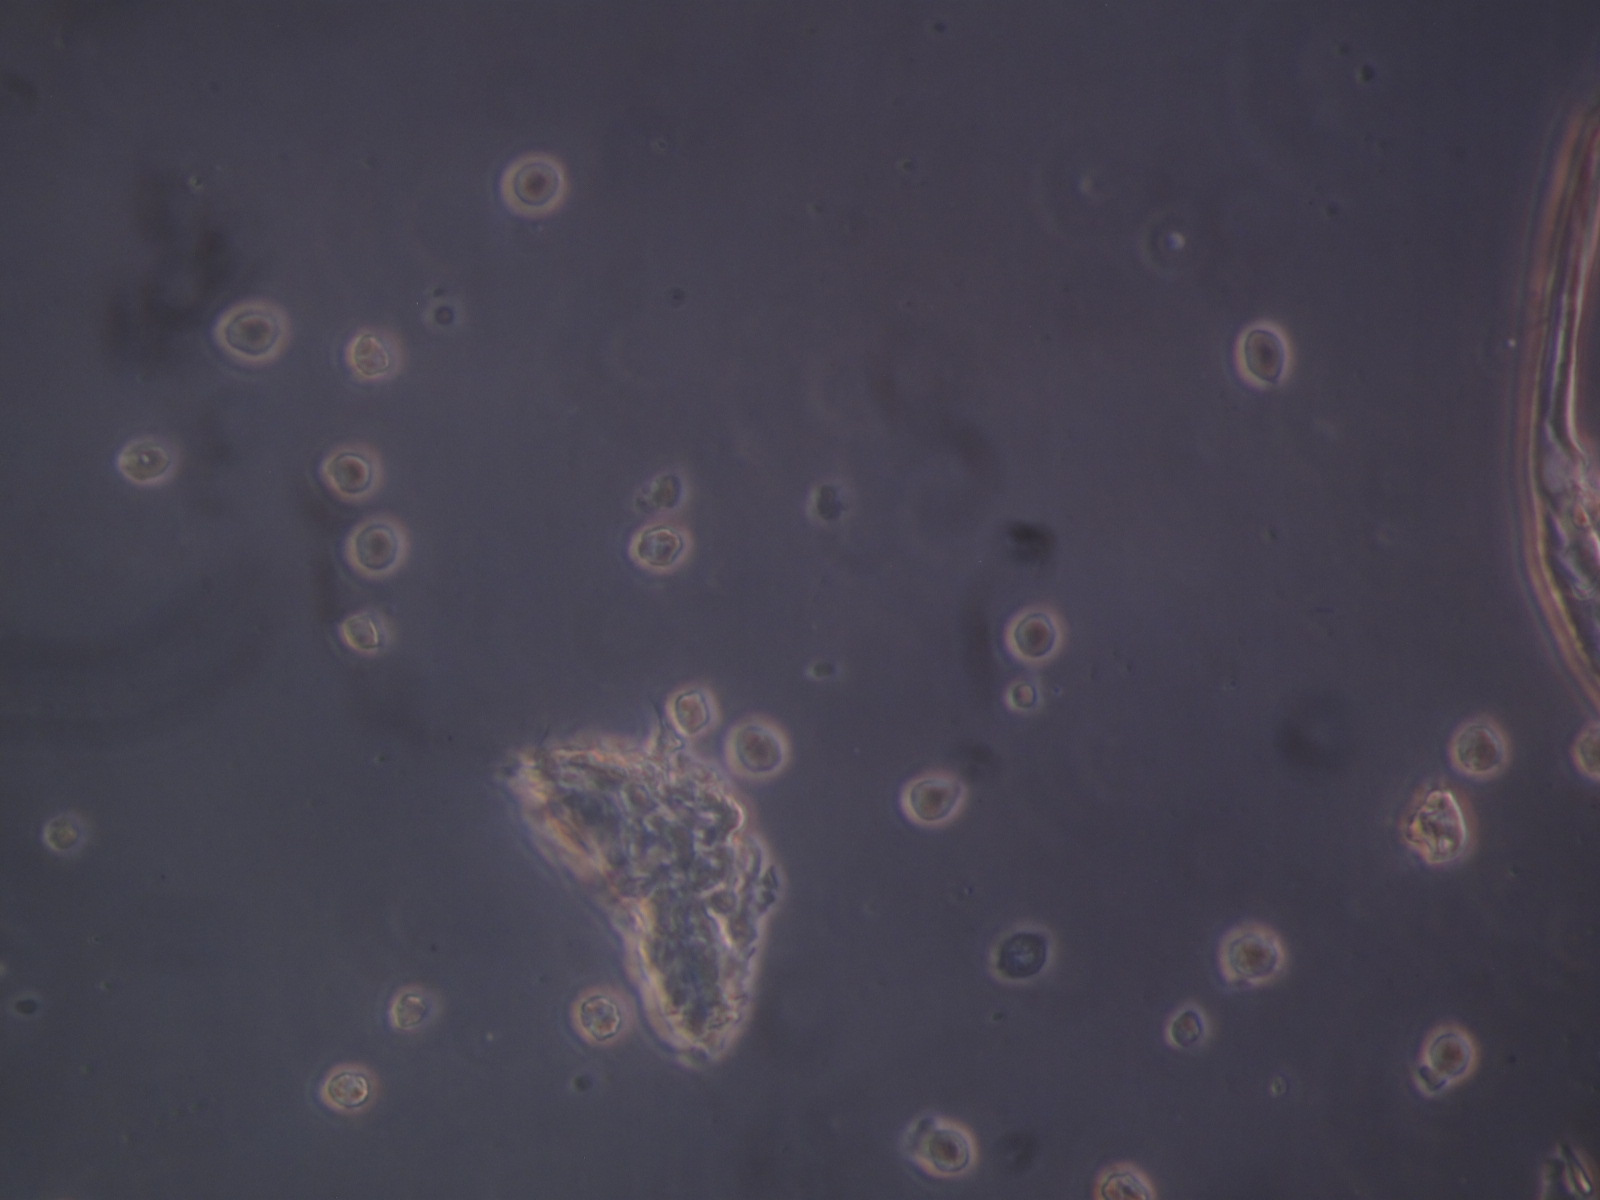hemo: (1396, 776, 1479, 863), (212, 297, 291, 371), (1448, 713, 1511, 783), (1218, 921, 1288, 984), (723, 716, 790, 780), (1233, 318, 1293, 389), (501, 153, 567, 216), (343, 516, 408, 579), (320, 441, 386, 503), (990, 923, 1053, 984), (1007, 603, 1066, 666), (569, 989, 630, 1049), (900, 775, 966, 828), (630, 522, 694, 575), (1422, 1021, 1478, 1082), (927, 1117, 980, 1180), (116, 434, 178, 487), (665, 679, 721, 737), (344, 329, 403, 381), (317, 1063, 379, 1112), (340, 609, 396, 655), (1094, 1161, 1158, 1200), (387, 983, 437, 1032), (1165, 997, 1211, 1051), (44, 811, 89, 858), (1004, 678, 1044, 715), (1575, 722, 1600, 775)
